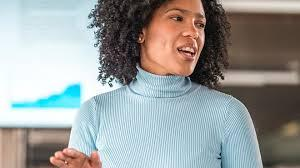person: (80, 0, 240, 89)
